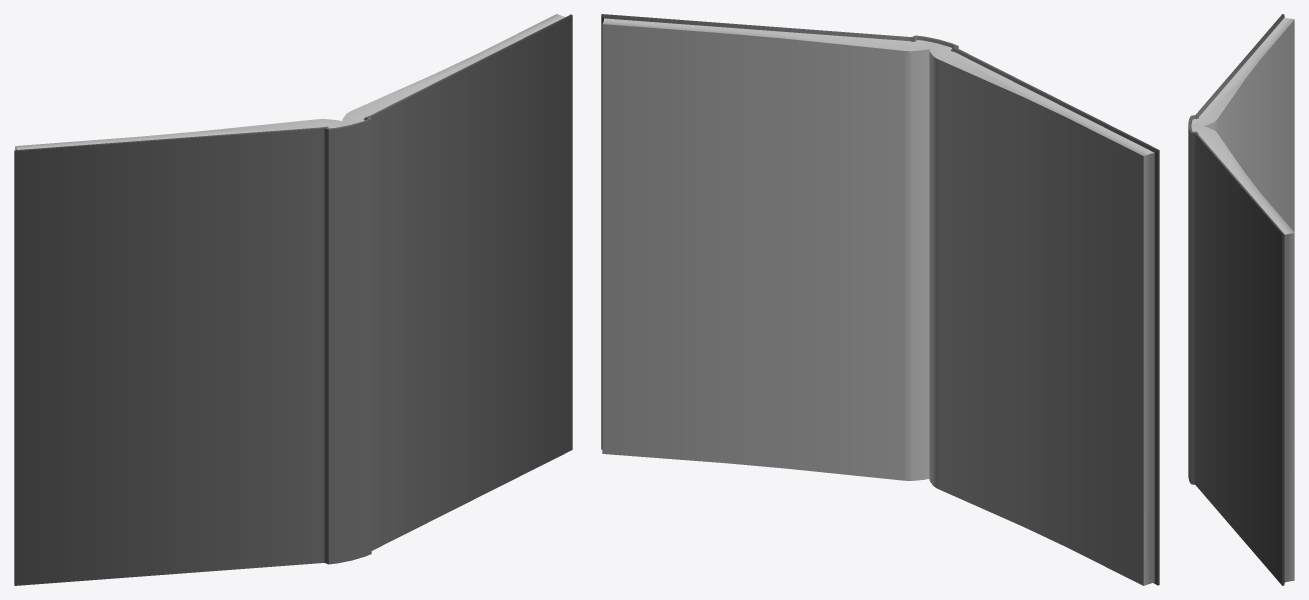
The model's file is Book_07.fbx.
3 views of the same model, side by side, from view 1: azimuth 30°, elevation 25°; view 2: azimuth 150°, elevation 25°; view 3: azimuth 270°, elevation 25° (orthographic). The views are drawn at different scales.
Parts seen in each view (by area): view 1: polySurface4; view 2: polySurface4; view 3: polySurface4.
Boxes of the visible parts, x1,y1,x2,y2 form: polySurface4: (14,14,572,585); polySurface4: (601,14,1159,585); polySurface4: (1188,14,1294,585).
Bounding box in the file's own units: 0.273 × 0.2032 × 0.0558.
